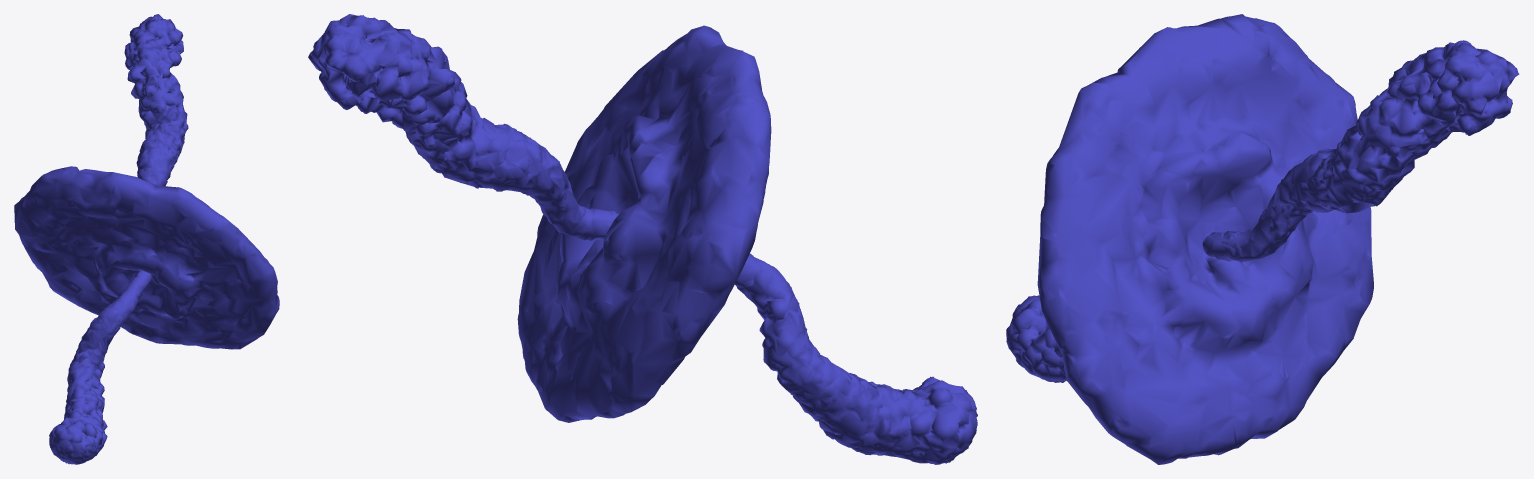
Rendered from neb-crab.glb.
The picture shows the model from 3 angles, left to right: view 1: azimuth 30°, elevation 25°; view 2: azimuth 150°, elevation 25°; view 3: azimuth 270°, elevation 25°; orthographic projection. The views are drawn at different scales.
Parts seen in each view (by area): view 1: CrabNebulaXrayModel_OBJexport; view 2: CrabNebulaXrayModel_OBJexport; view 3: CrabNebulaXrayModel_OBJexport.
Boxes of the visible parts, bbox=[...] form: CrabNebulaXrayModel_OBJexport: bbox=[14, 14, 279, 464]; CrabNebulaXrayModel_OBJexport: bbox=[308, 14, 977, 464]; CrabNebulaXrayModel_OBJexport: bbox=[1006, 14, 1519, 464].
Bounding box in the file's own units: 171 × 190 × 178.
